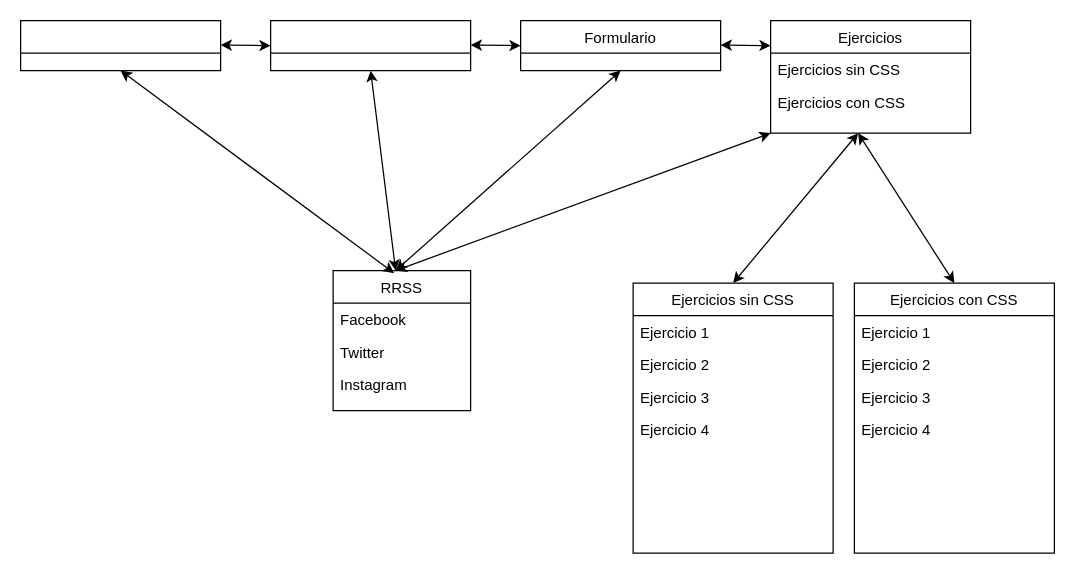
This 1075x574 diagram has some shape labels left out. The shapes that lost their labels are listed below. From the top down, each one's centre as x and y in pixels, then its label:
At point (120, 45): "Index".
At point (370, 45): "Página libre".
